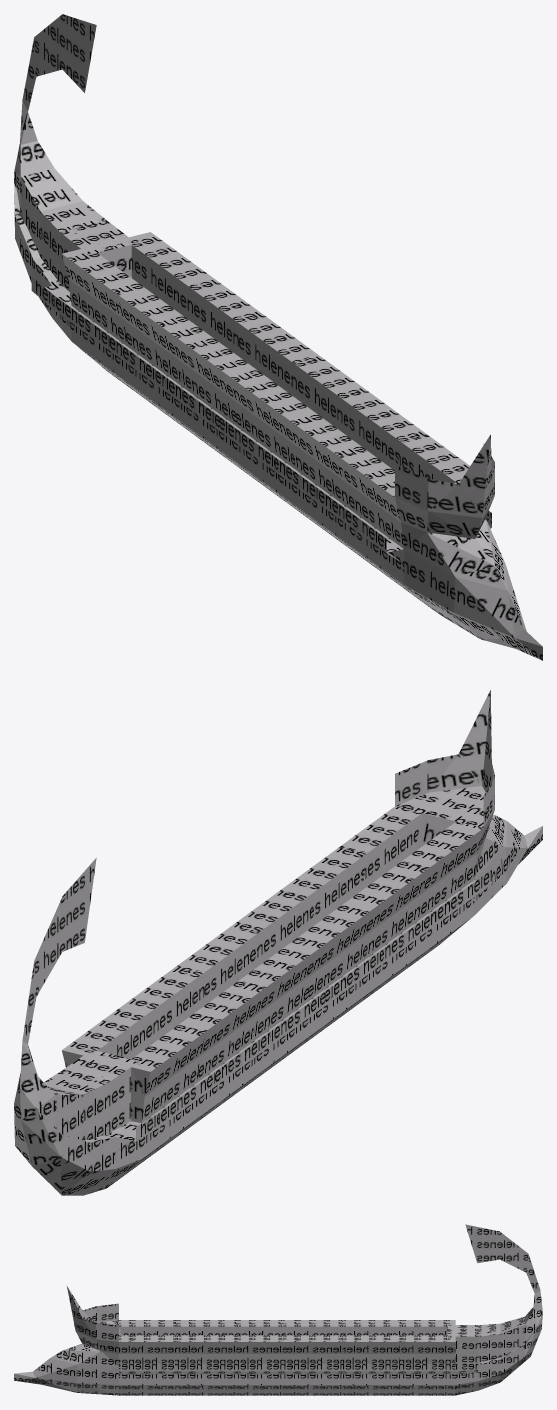
The model's file is hele_tric.dae.
3 views of the same model, one above another, from view 1: azimuth 30°, elevation 25°; view 2: azimuth 150°, elevation 25°; view 3: azimuth 270°, elevation 25° (orthographic). The views are drawn at different scales.
Visible parts, largest first — view 1: Trireme; view 2: Trireme; view 3: Trireme.
Boxes of the visible parts, bbox=[...] form: Trireme: bbox=[14, 14, 542, 660]; Trireme: bbox=[14, 690, 542, 1195]; Trireme: bbox=[14, 1224, 542, 1395].
Size of the model in its own units: 8.2 by 70.45 by 25.16.
1 material, 1 textured.
